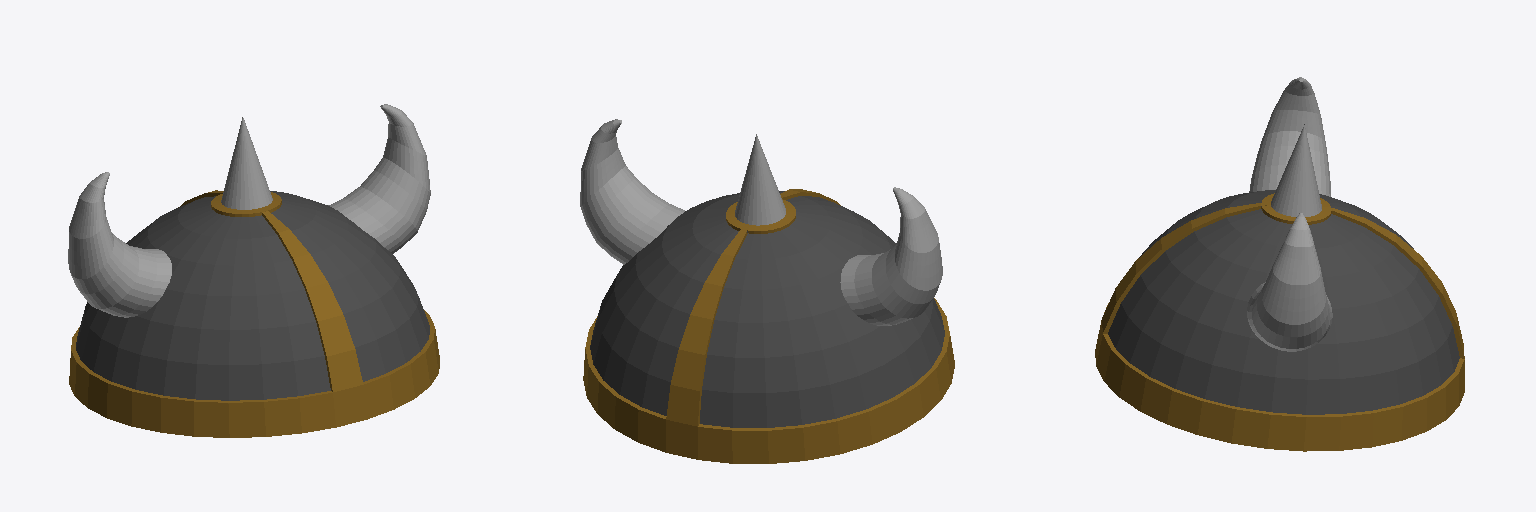
Rendered from vikinghat.obj.
3 views of the same model, side by side, from view 1: azimuth 30°, elevation 25°; view 2: azimuth 150°, elevation 25°; view 3: azimuth 270°, elevation 25° (orthographic).
Parts seen in each view (by area): view 1: Viking_Hat_Mesh.001; view 2: Viking_Hat_Mesh.001; view 3: Viking_Hat_Mesh.001.
Part boxes in pixels (bbox=[...]): Viking_Hat_Mesh.001: bbox=[68, 104, 439, 437]; Viking_Hat_Mesh.001: bbox=[580, 119, 954, 463]; Viking_Hat_Mesh.001: bbox=[1095, 77, 1464, 451].
Bounding box in the file's own units: 2.14 × 1.54 × 1.96.